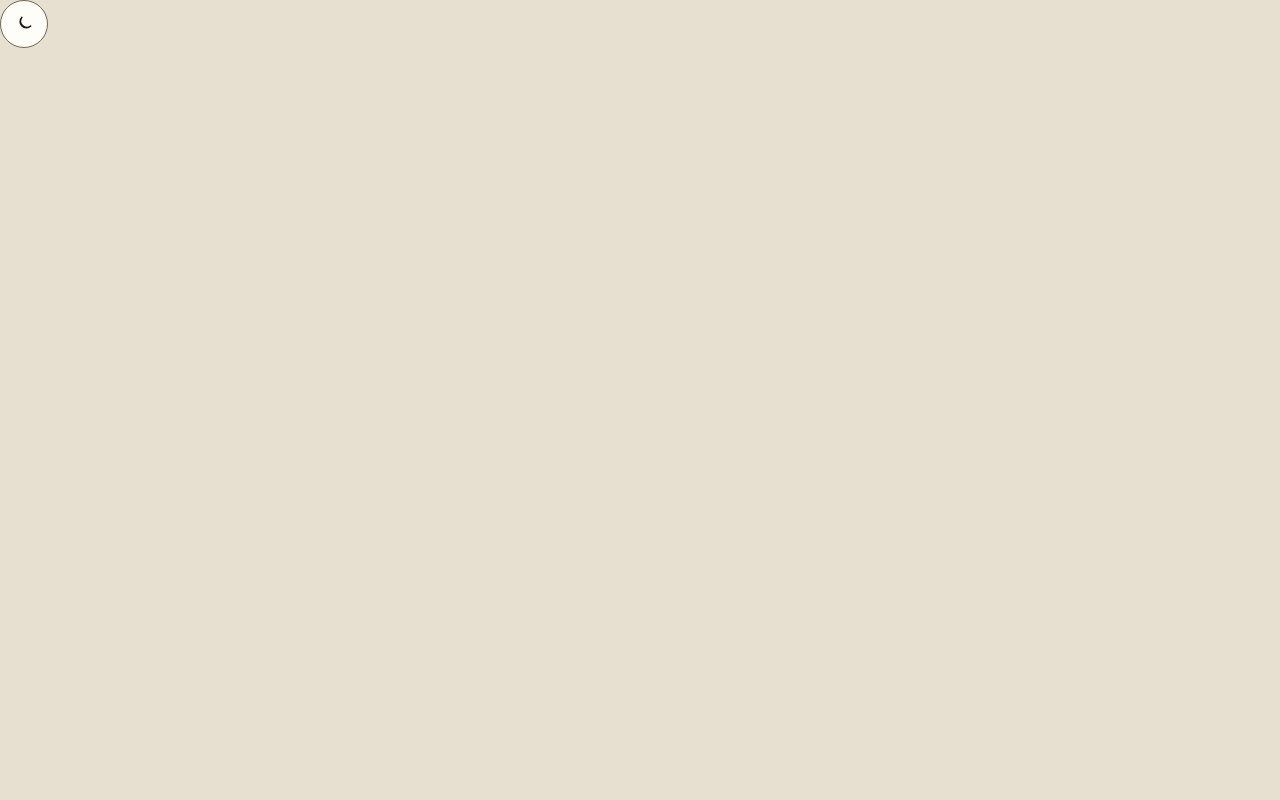
theme toggle › toggles the theme, persists the choice, and announces it
Later steps or results of the test are not shown.
Click the button named "Switch to dark theme". click: (24, 24)
box: x1=0 y1=0 x2=48 y2=48
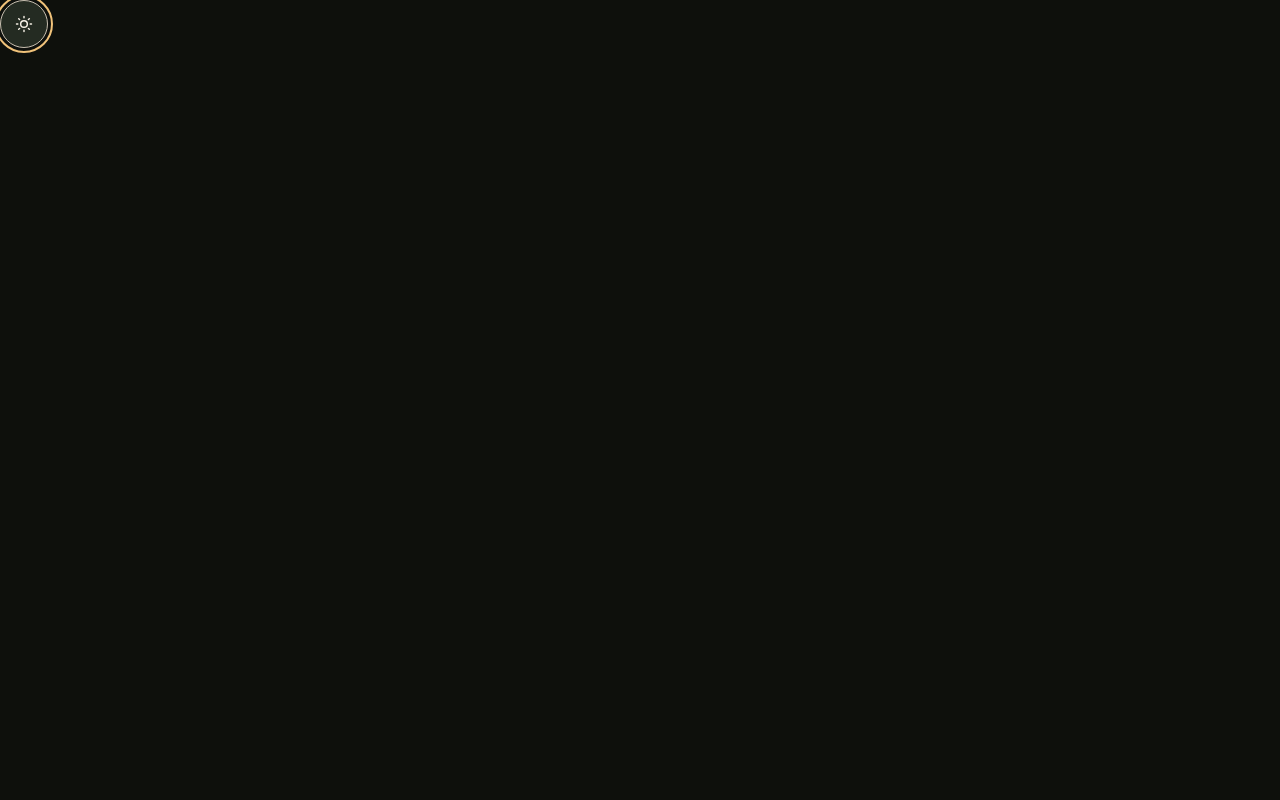
Result: the button named "Switch to light theme" is pressed at x1=0 y1=0 x2=48 y2=48
